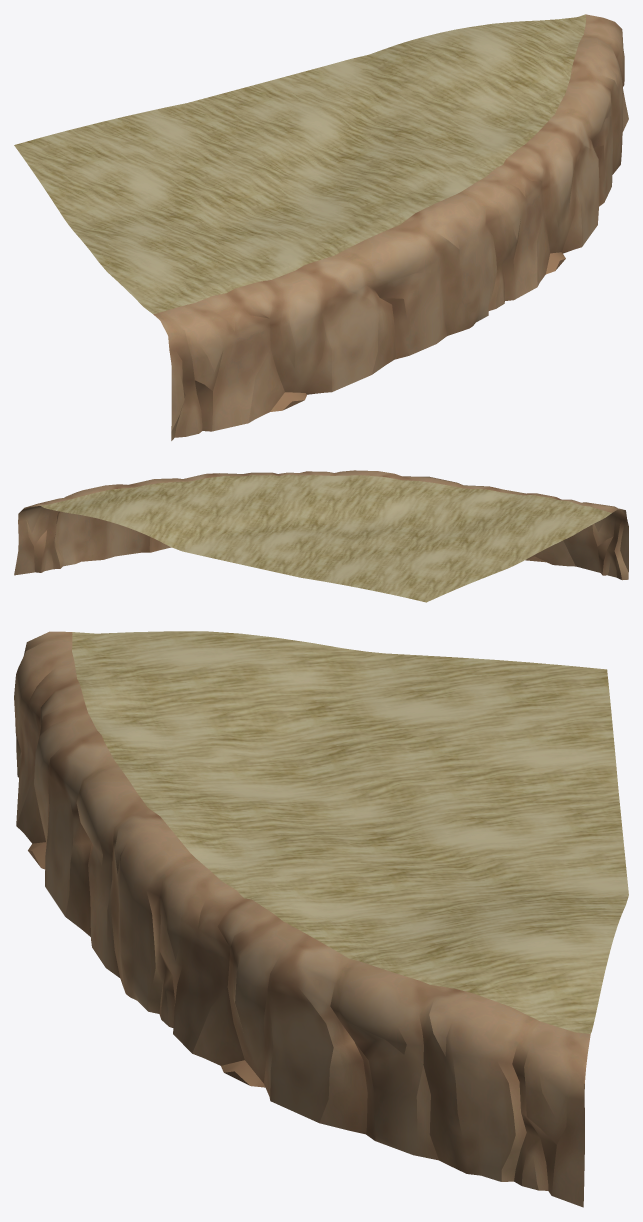
Rendered from SM_ENV_KNFRST_Cliff_Ja.FBX.
The picture shows the model from 3 angles, top to bottom: view 1: azimuth 30°, elevation 25°; view 2: azimuth 150°, elevation 25°; view 3: azimuth 270°, elevation 25°; orthographic projection. The views are drawn at different scales.
Parts seen in each view (by area): view 1: SM_ENV_KNFRST_Cliff_Ja; view 2: SM_ENV_KNFRST_Cliff_Ja; view 3: SM_ENV_KNFRST_Cliff_Ja.
Part boxes in pixels (bbox=[...]): SM_ENV_KNFRST_Cliff_Ja: bbox=[14, 14, 628, 440]; SM_ENV_KNFRST_Cliff_Ja: bbox=[14, 470, 628, 602]; SM_ENV_KNFRST_Cliff_Ja: bbox=[14, 631, 628, 1207].
Bounding box in the file's own units: 2687 × 471 × 1621.
